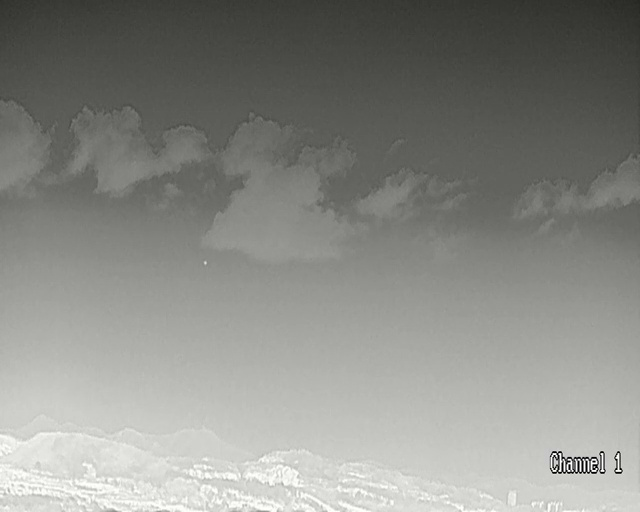uav: (203, 261, 206, 263)
